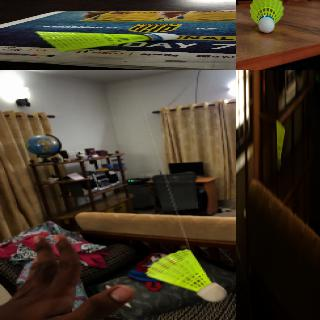shuttlecock: (144, 250, 226, 301), (36, 31, 180, 50), (249, 0, 284, 33), (276, 120, 285, 170)
